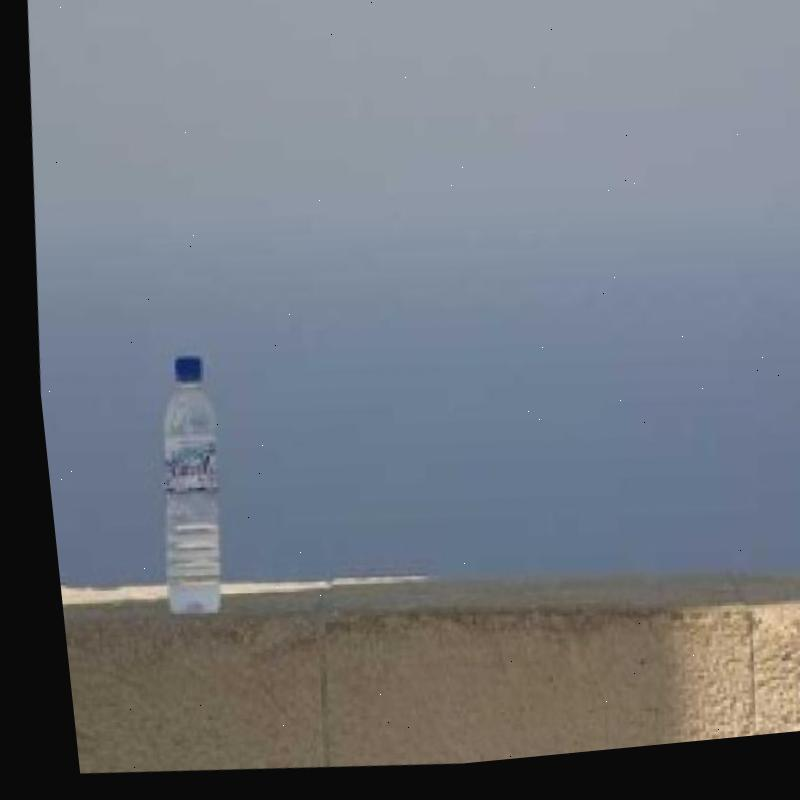botella: (126, 353, 226, 625)
